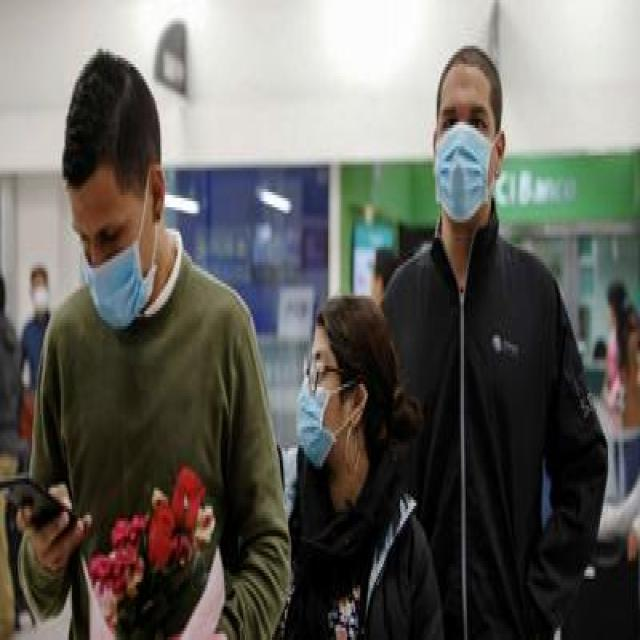with_mask: (71, 209, 153, 343), (433, 96, 497, 227), (296, 343, 355, 471), (32, 272, 48, 318)
